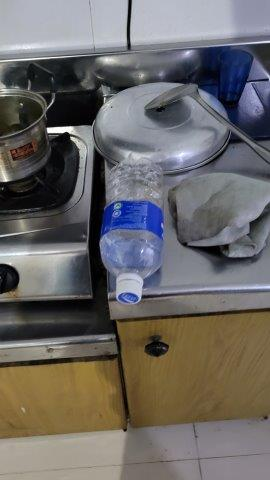botolplastik: (99, 159, 164, 306)
